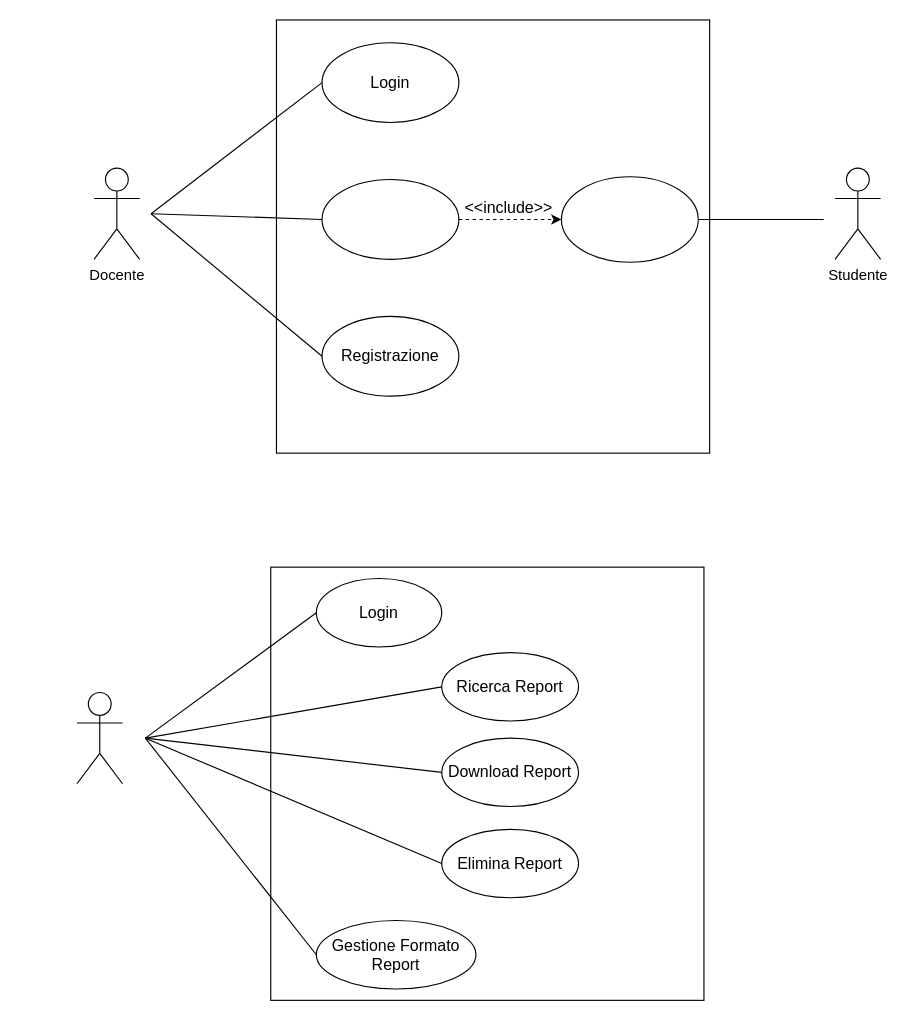
Some shapes in this 907 by 1020 pixel diagram are drawn without their labels. Here are the shapes that lost their labels. From the top down, the centre of each, then its label:
the point at 390,218: Svolgimento Sessione
the point at 629,219: Invio Green Pass
the point at 99,737: Direttore di Dipartimento
